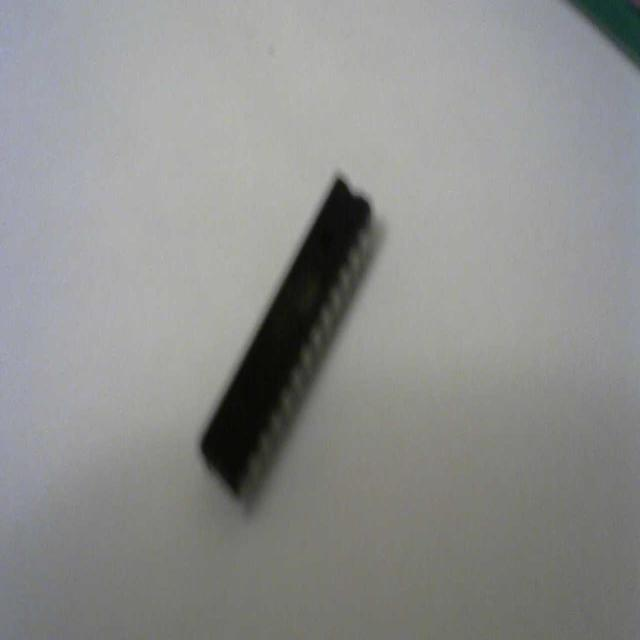atmega: (196, 170, 384, 509)
